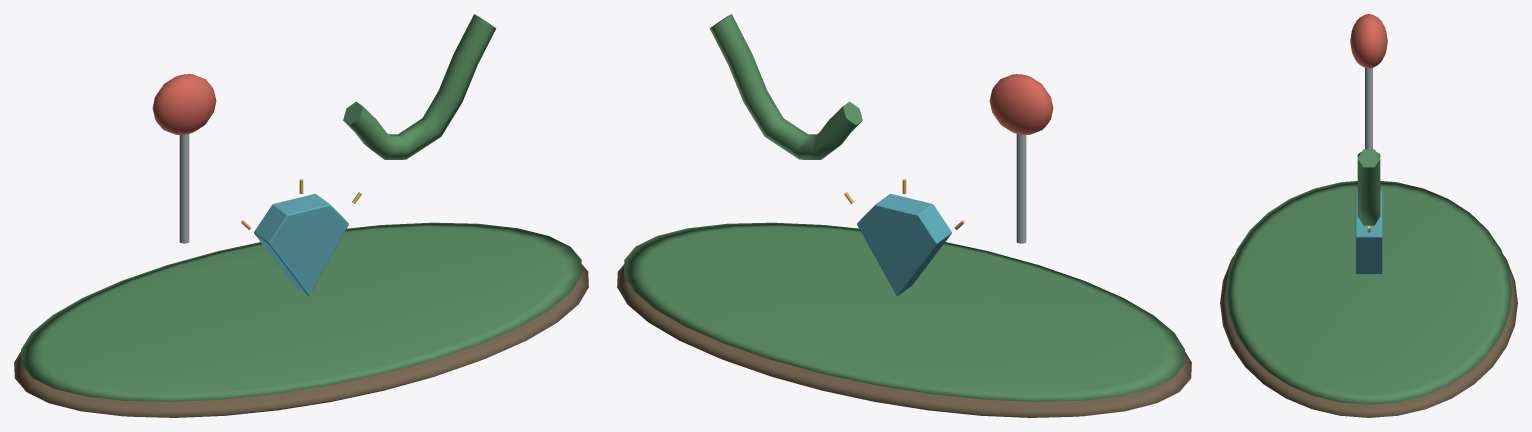
The model's file is complete-first-of-course-fit.glb.
The picture shows the model from 3 angles, left to right: view 1: azimuth 30°, elevation 25°; view 2: azimuth 150°, elevation 25°; view 3: azimuth 270°, elevation 25°; orthographic projection. The views are drawn at different scales.
Visible parts, largest first — view 1: complete-first-of-course-fit_surface_01, complete-first-of-course-fit_surface_00, complete-first-of-course-fit_surface_04, complete-first-of-course-fit_surface_03, complete-first-of-course-fit_surface_02; view 2: complete-first-of-course-fit_surface_01, complete-first-of-course-fit_surface_00, complete-first-of-course-fit_surface_04, complete-first-of-course-fit_surface_03, complete-first-of-course-fit_surface_02; view 3: complete-first-of-course-fit_surface_01, complete-first-of-course-fit_surface_00, complete-first-of-course-fit_surface_04, complete-first-of-course-fit_surface_03, complete-first-of-course-fit_surface_02.
Part boxes in pixels (x1,y1,x2,y2): complete-first-of-course-fit_surface_01: [21, 14, 581, 401]; complete-first-of-course-fit_surface_00: [14, 264, 588, 417]; complete-first-of-course-fit_surface_04: [254, 194, 348, 296]; complete-first-of-course-fit_surface_03: [152, 74, 216, 134]; complete-first-of-course-fit_surface_02: [179, 134, 189, 243]; complete-first-of-course-fit_surface_01: [624, 14, 1184, 401]; complete-first-of-course-fit_surface_00: [617, 264, 1191, 417]; complete-first-of-course-fit_surface_04: [857, 194, 951, 296]; complete-first-of-course-fit_surface_03: [989, 74, 1053, 134]; complete-first-of-course-fit_surface_02: [1016, 134, 1026, 243]; complete-first-of-course-fit_surface_01: [1226, 149, 1511, 404]; complete-first-of-course-fit_surface_00: [1220, 254, 1517, 417]; complete-first-of-course-fit_surface_04: [1355, 191, 1382, 274]; complete-first-of-course-fit_surface_03: [1350, 14, 1387, 68]; complete-first-of-course-fit_surface_02: [1365, 68, 1372, 149].
Bounding box in the file's own units: 4.56 × 2.33 × 2.5.
